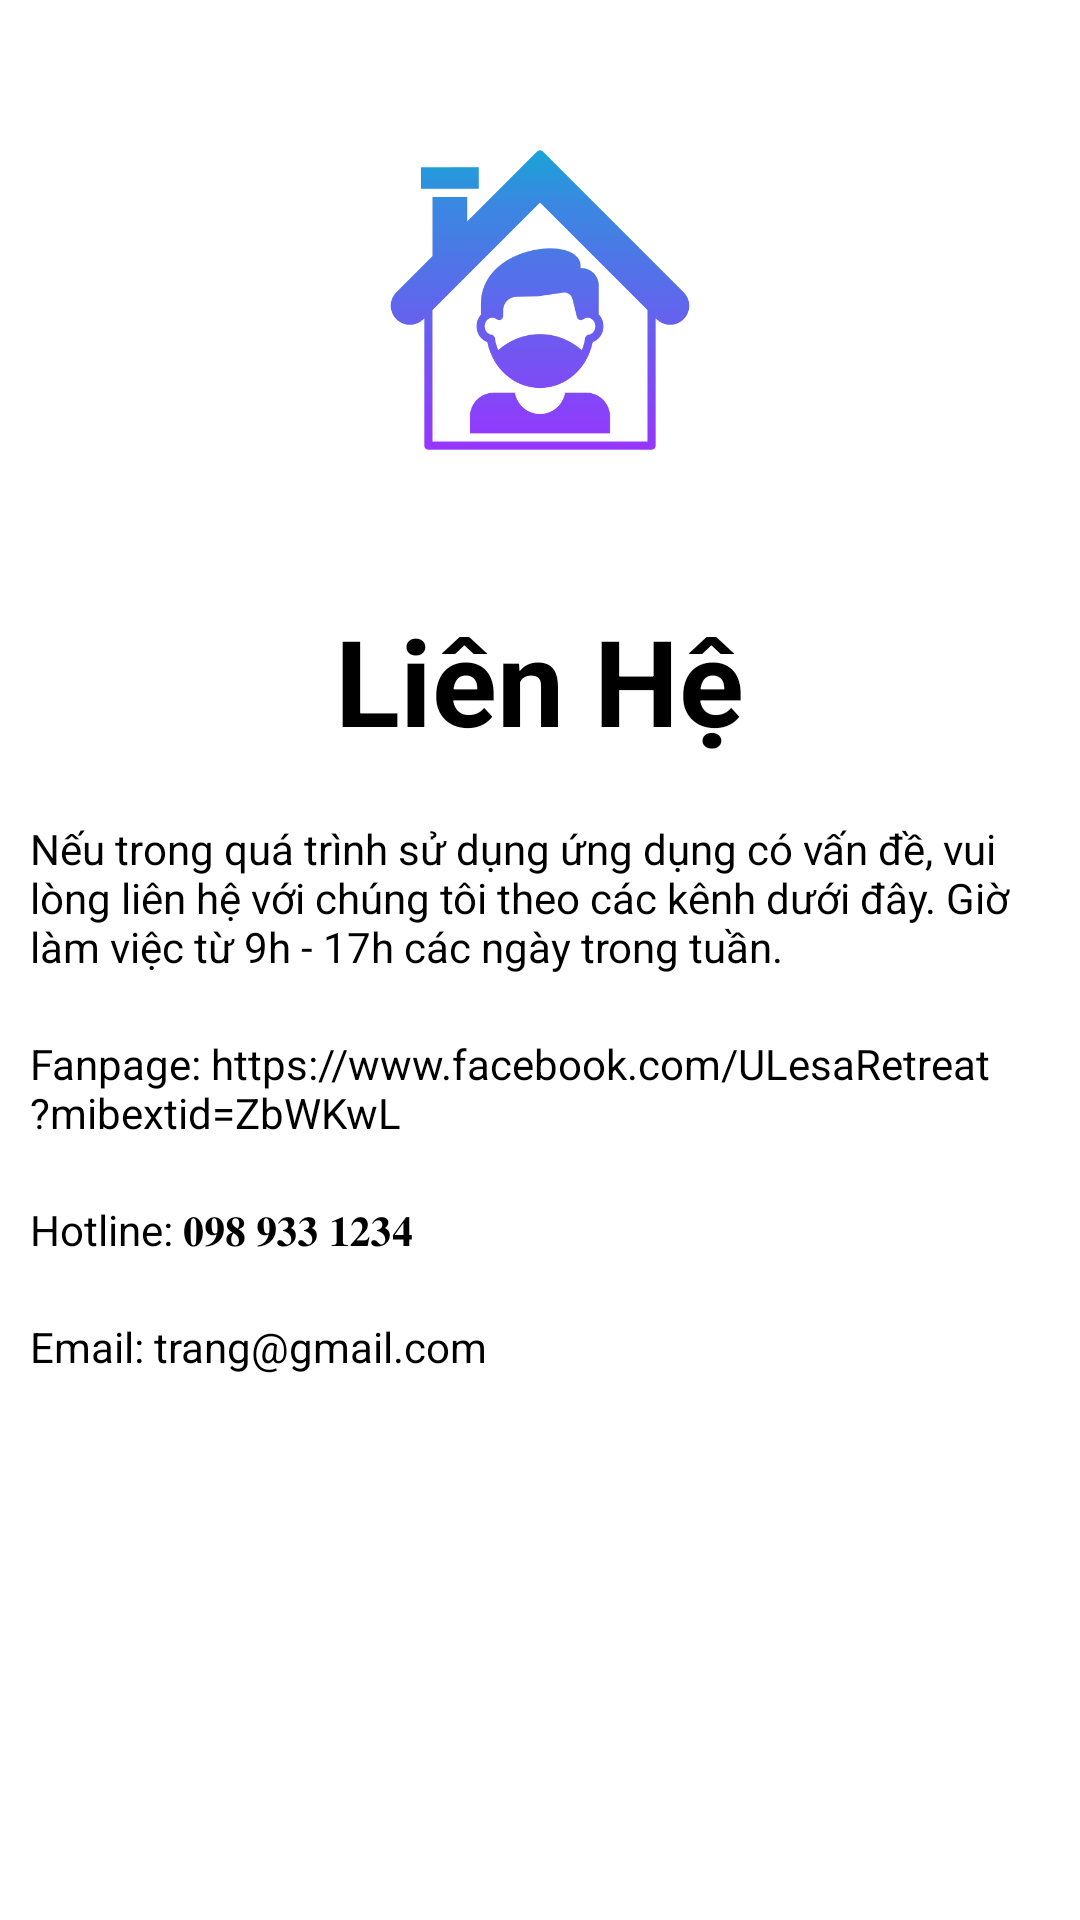

Icons on this 1080 x 1920 Android screen, each with its box as (x1, y1, x2, y2):
iconapp: (390, 150, 690, 450)
